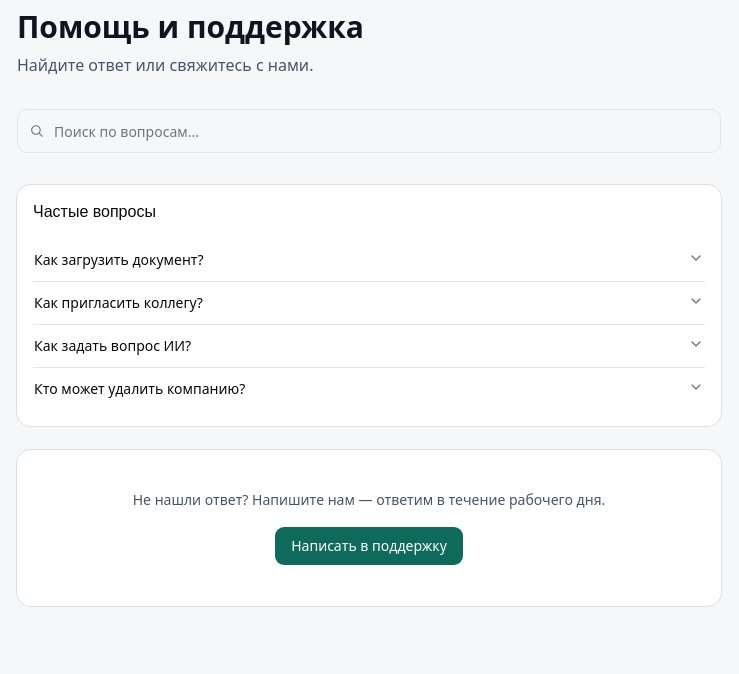
it: SupportPage › раскрывает ответ на вопрос о правах удаления компании
Click the button "Кто может удалить компанию?" at (140, 388), box [33, 368, 705, 410]
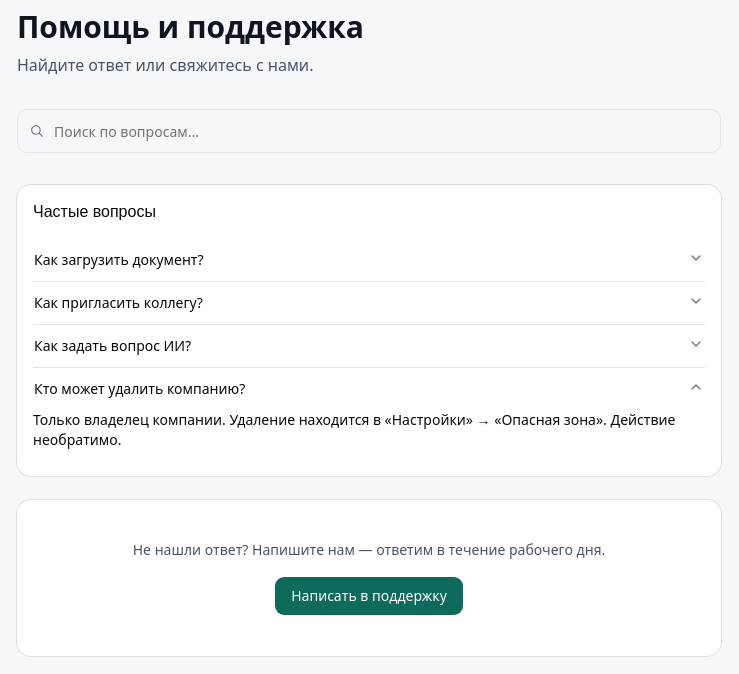
Result: the text "Только владелец компании" is shown at [33, 410, 675, 449]
